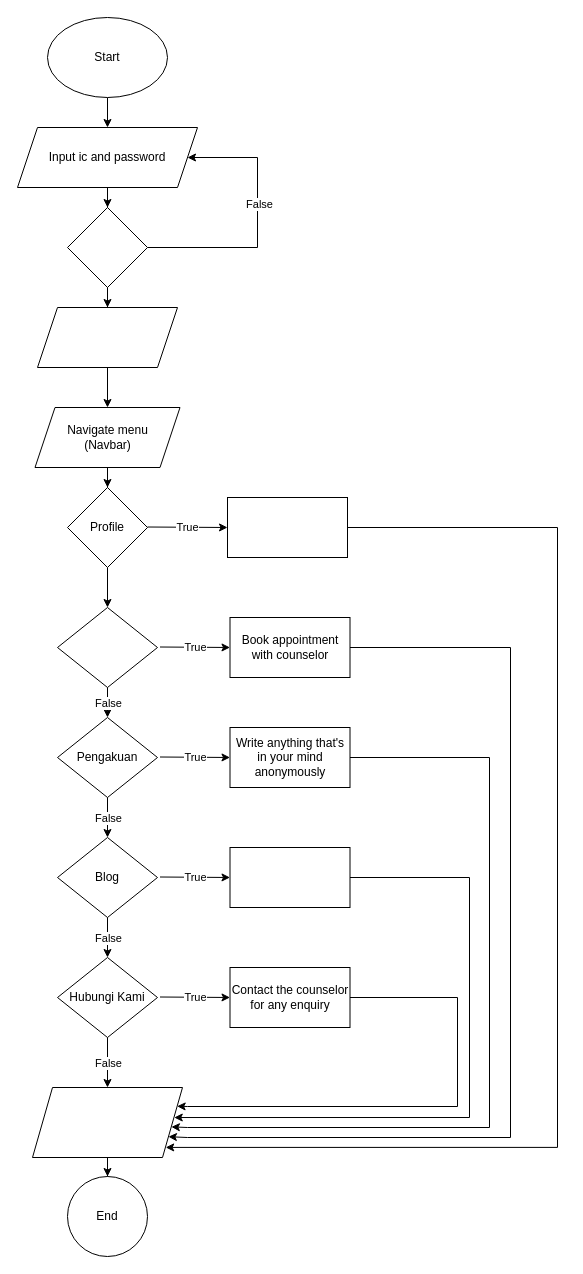
Image size: 583x1274. Some labels were removed from this diagram. The shapes that lost their labels are listed below. From the top down, each one's centre as x and y in pixels, then its label:
At (x=107, y=247): "Validate".
At (x=107, y=337): "Homepage".
At (x=287, y=527): "Change Profile picture and password".
At (x=107, y=647): "Tempah".
At (x=289, y=877): "Read blog posts from counselor".
At (x=107, y=1122): "Display contents and update in database".
